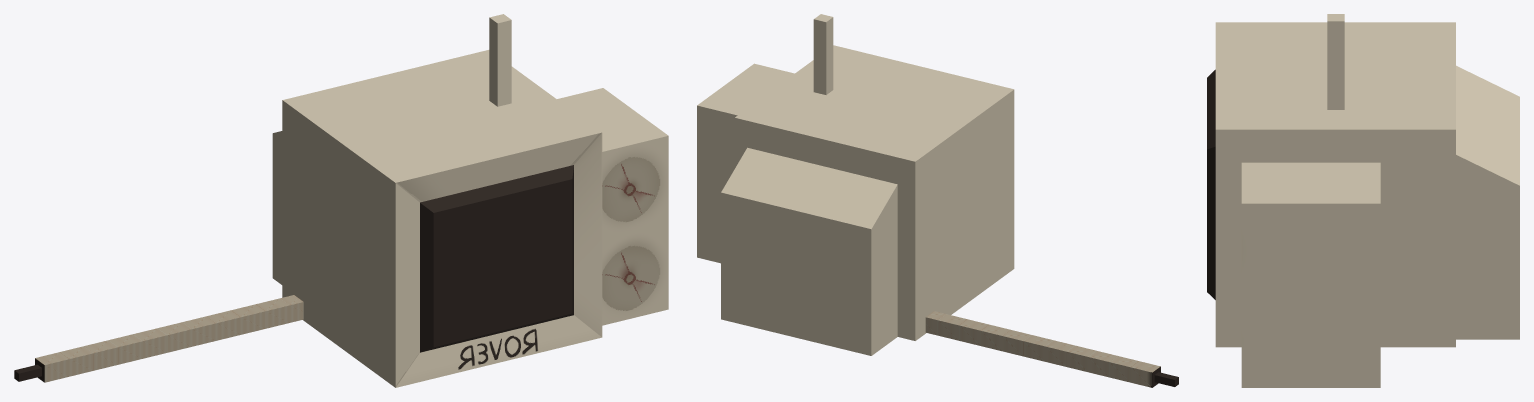
File: revor.glb
3 views of the same model, side by side, from view 1: azimuth 30°, elevation 25°; view 2: azimuth 150°, elevation 25°; view 3: azimuth 270°, elevation 25° (orthographic). The views are drawn at different scales.
Parts seen in each view (by area): view 1: Cube, Cube.003, Cube.002, Cube.001; view 2: Cube, Cube.002, Cube.001; view 3: Cube, Cube.003, Cube.001.
Part boxes in pixels (<box>): Cube: <box>272,50,668,387</box>; Cube.003: <box>420,165,573,352</box>; Cube.002: <box>14,295,303,382</box>; Cube.001: <box>489,14,511,106</box>; Cube: <box>697,45,1014,355</box>; Cube.002: <box>925,311,1178,387</box>; Cube.001: <box>813,14,833,94</box>; Cube: <box>1215,22,1519,387</box>; Cube.003: <box>1207,69,1215,299</box>; Cube.001: <box>1327,14,1344,109</box>.
Bounding box in the file's own units: 4.48 × 2.18 × 2.02.
Materials: 4 (3 with a texture image).
